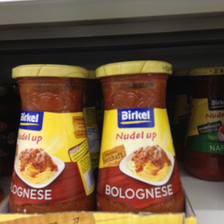tomato_sauce: (95, 61, 185, 212), (8, 63, 95, 213), (185, 65, 224, 181)
